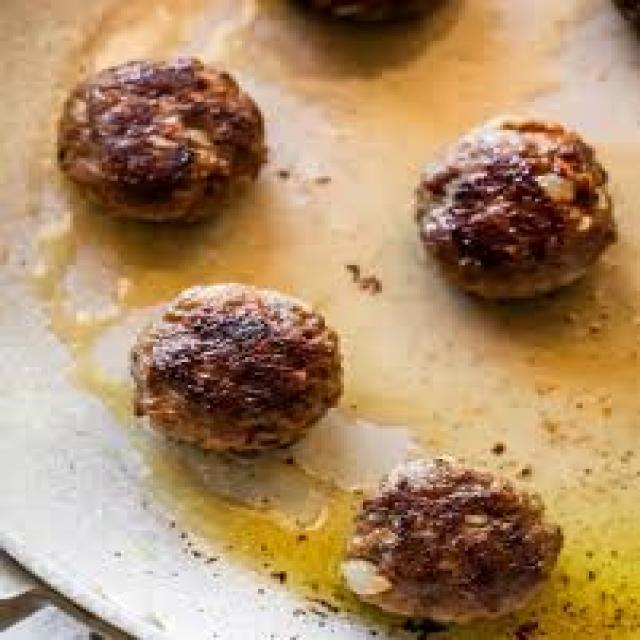Meatball: (38, 57, 303, 238), (318, 451, 574, 628), (392, 110, 626, 303), (129, 278, 357, 458)
